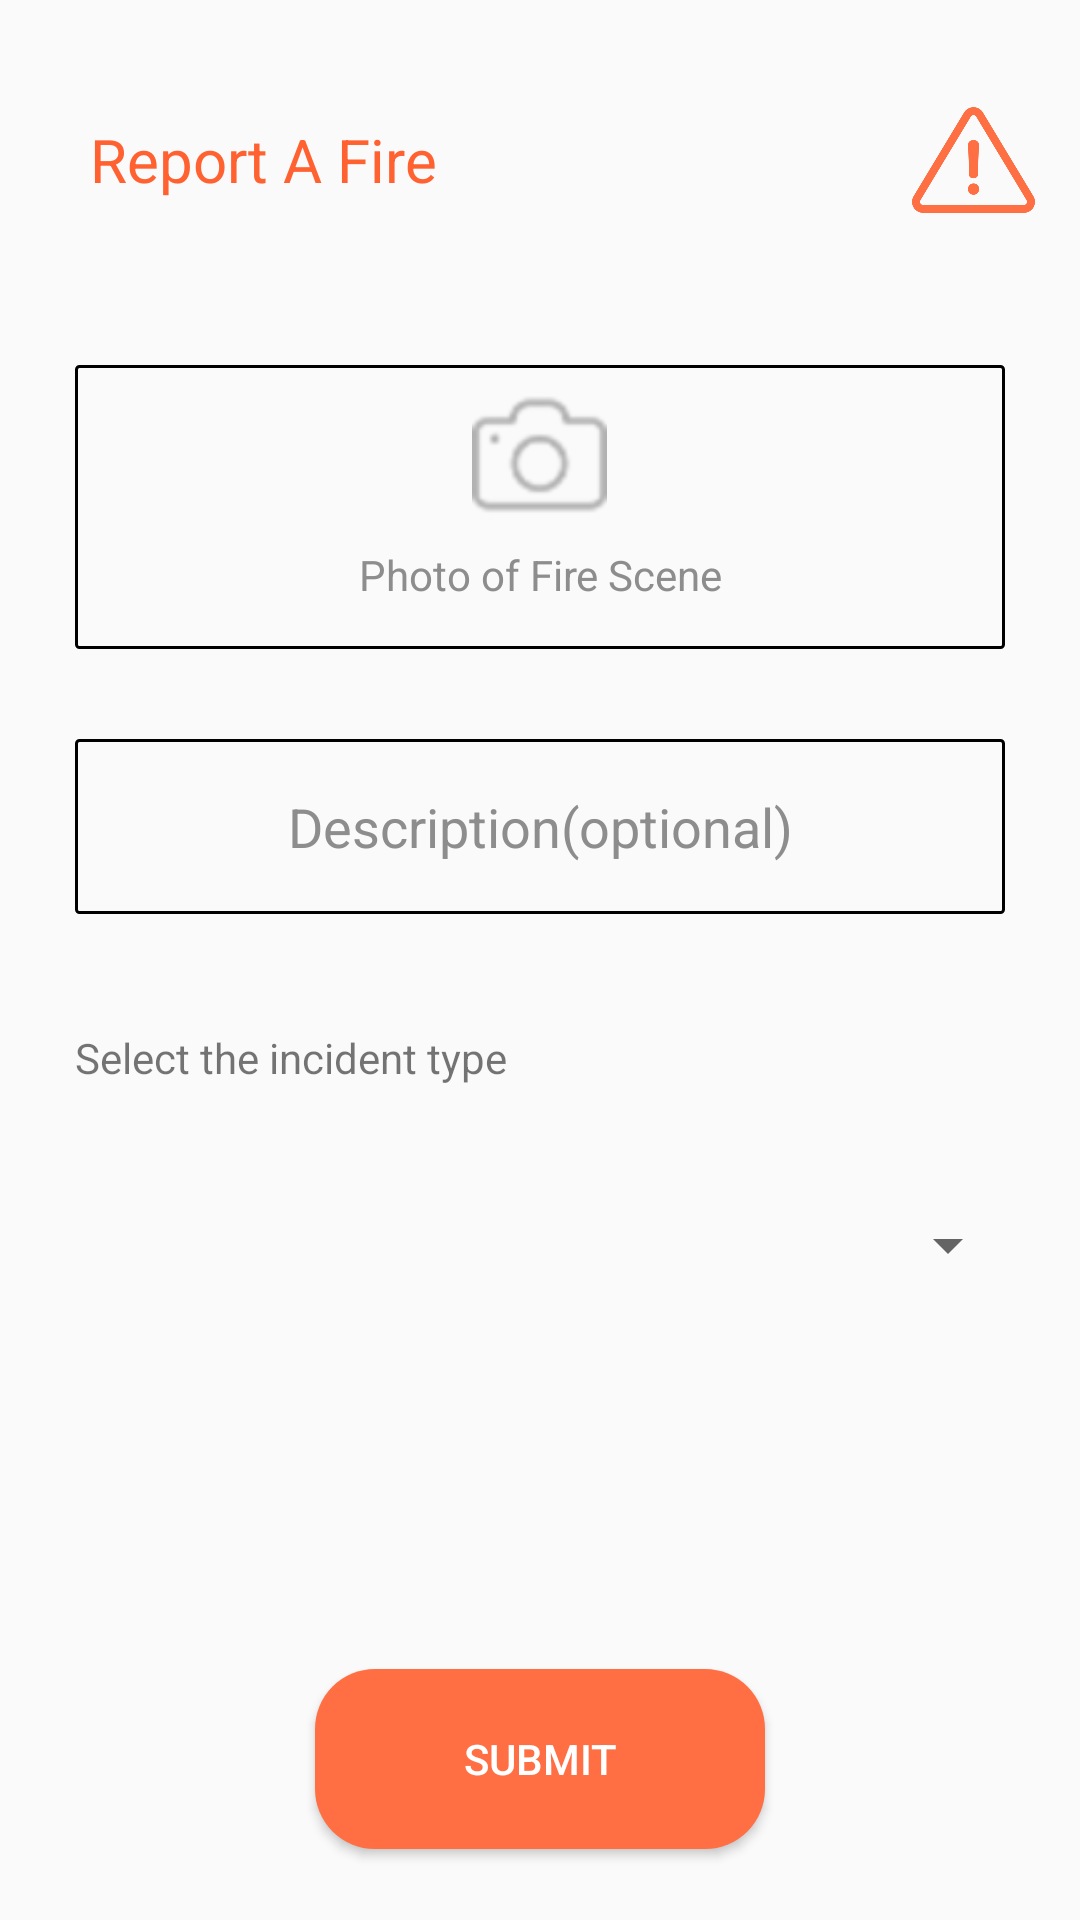

Icon bounding boxes for this 1080*1920 phone screenshot, format bbox=[x1, y1, x2, y2]:
camera: bbox=[472, 398, 607, 511]
danger: bbox=[912, 107, 1035, 213]
